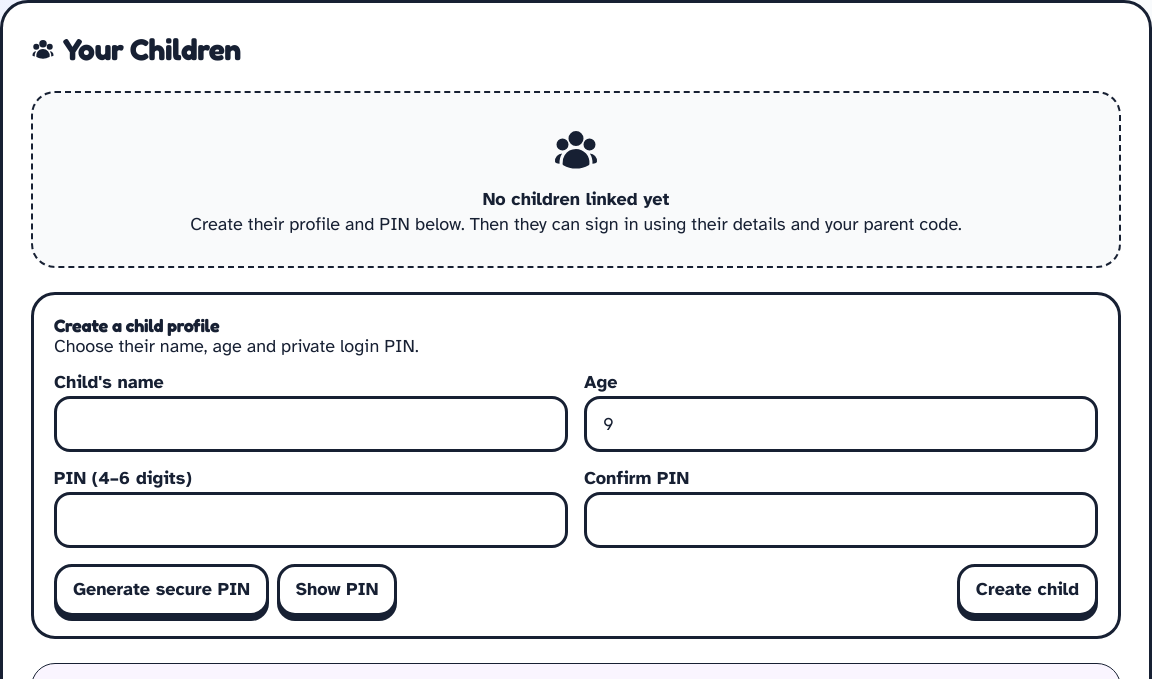
Test: child picker behaviour › preserves profile creation and its existing status announcement
The image size is (1152, 679).
Type "Example learner" into the field labelled "Child's name" at x=311, y=424, box [54, 396, 568, 452]
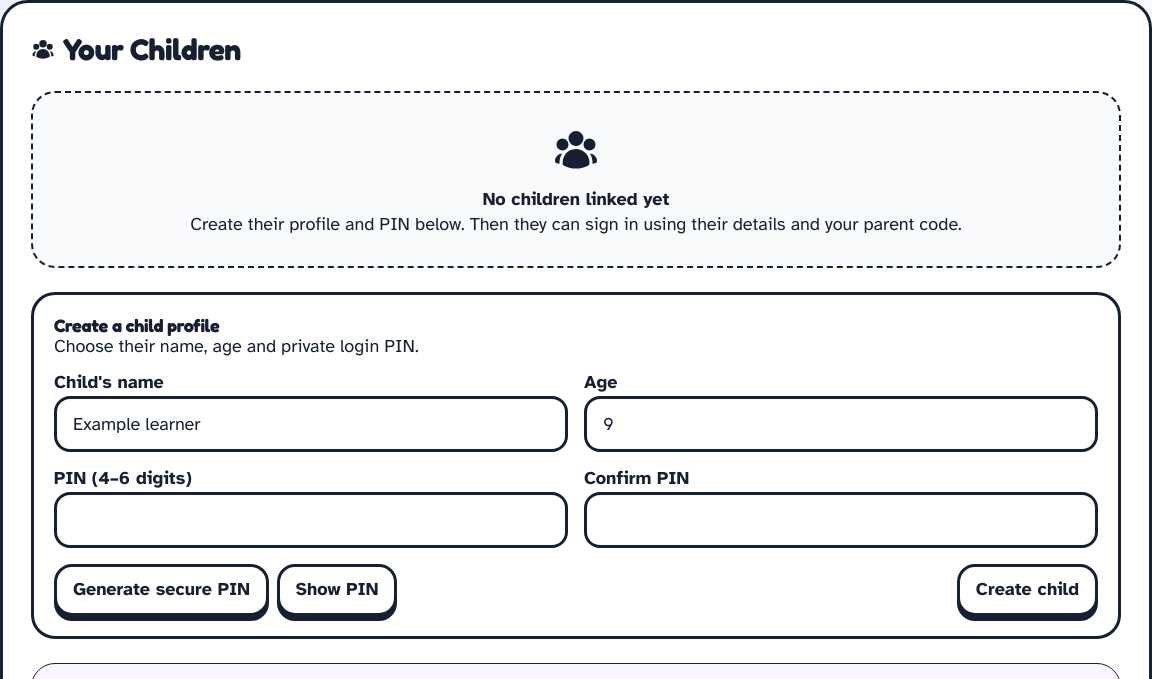
Type "0000" into the password field labelled "PIN (4–6 digits)" at x=311, y=520, box [54, 492, 568, 548]
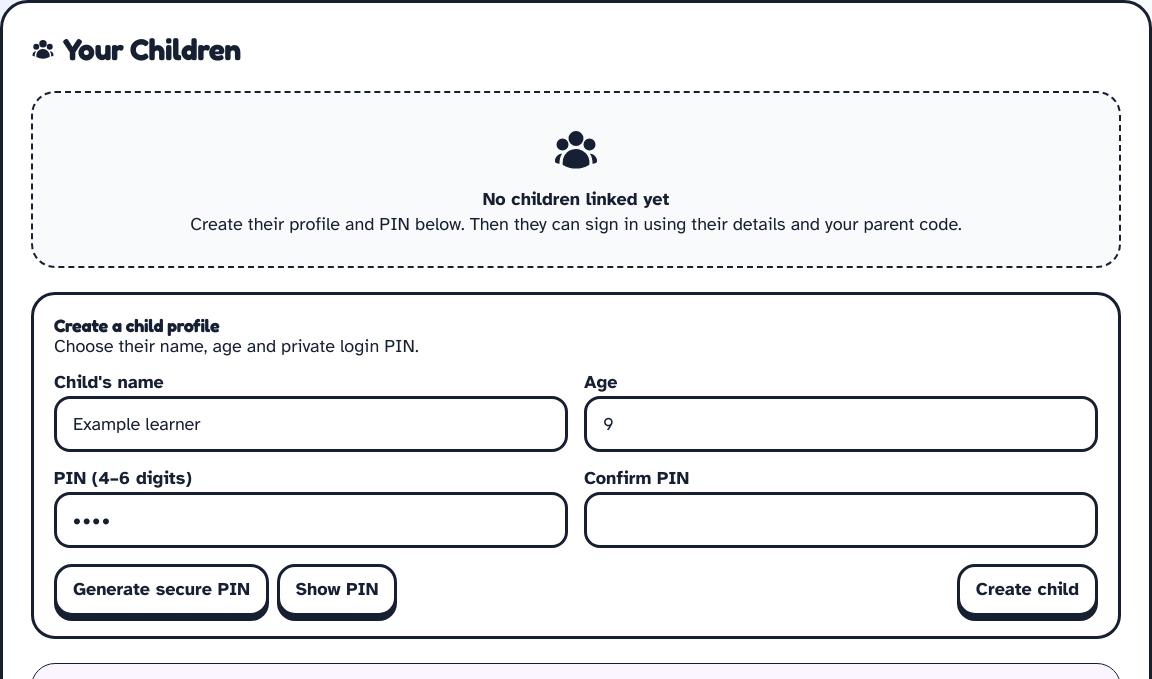
Type "0000" into the password field labelled "Confirm PIN" at x=841, y=520, box [584, 492, 1098, 548]
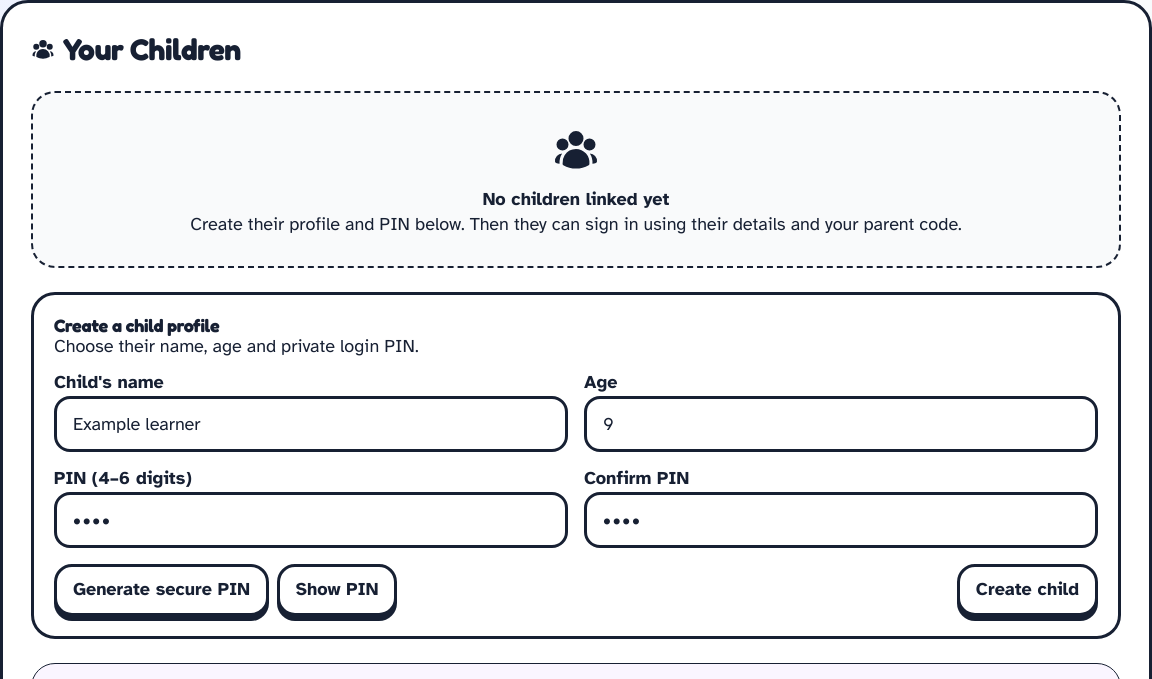
Submit the form named "Child's name", box [31, 292, 1121, 639]
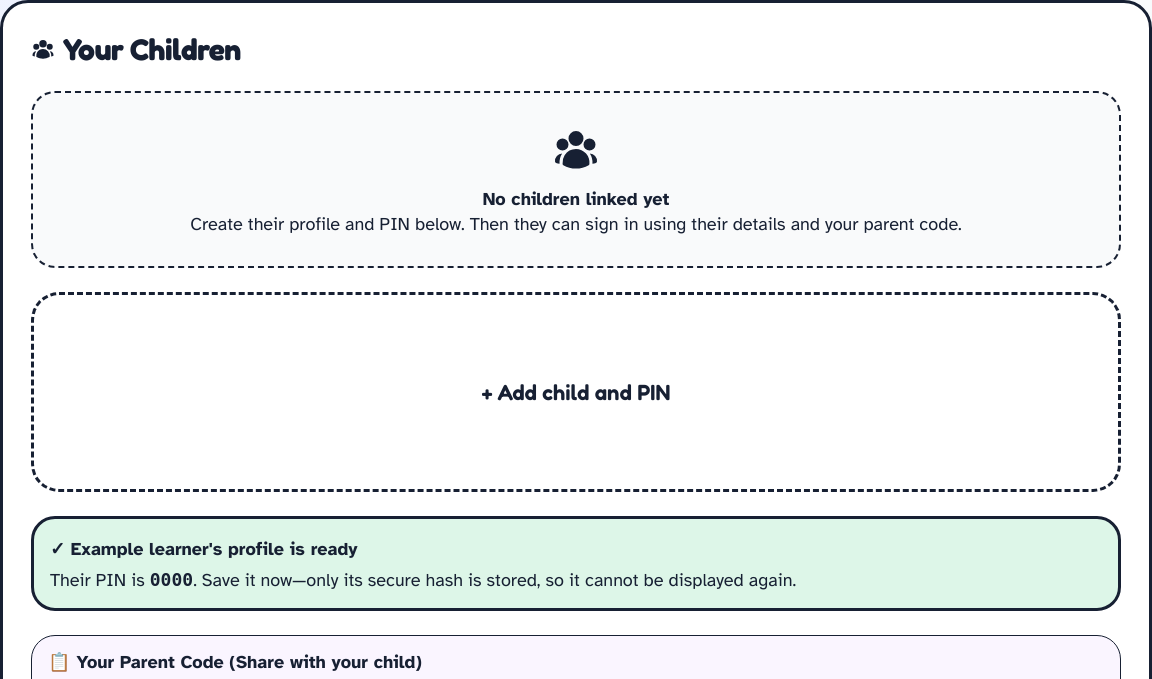
Now the message is shown, box [31, 516, 1121, 611]
Now the text "✓ Example learner's profile is ready" is shown, box [50, 538, 358, 560]
